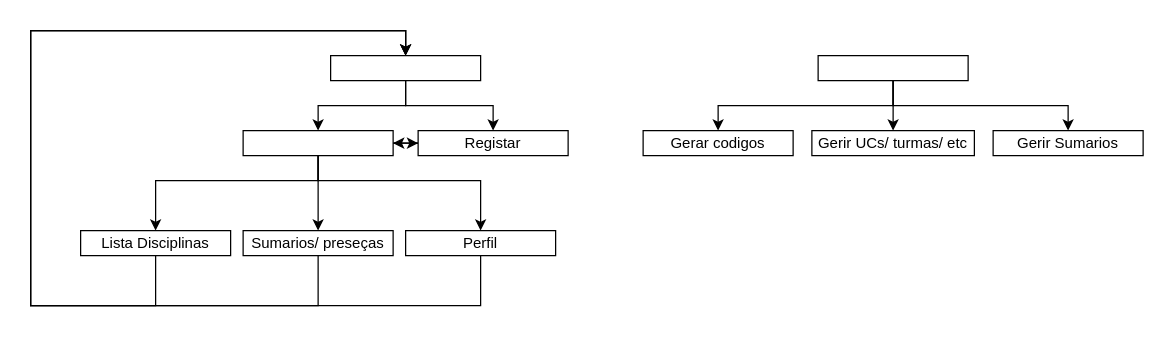
The diagram is 1165 pixels wide and 338 high, and some of its shapes have lost their labels. The centre of each missing label's shape, as x and y in pixels:
"Login" belongs at point 317,142.
"Login Administração" belongs at point 892,67.
"Pagina inicial" belongs at point 405,67.
